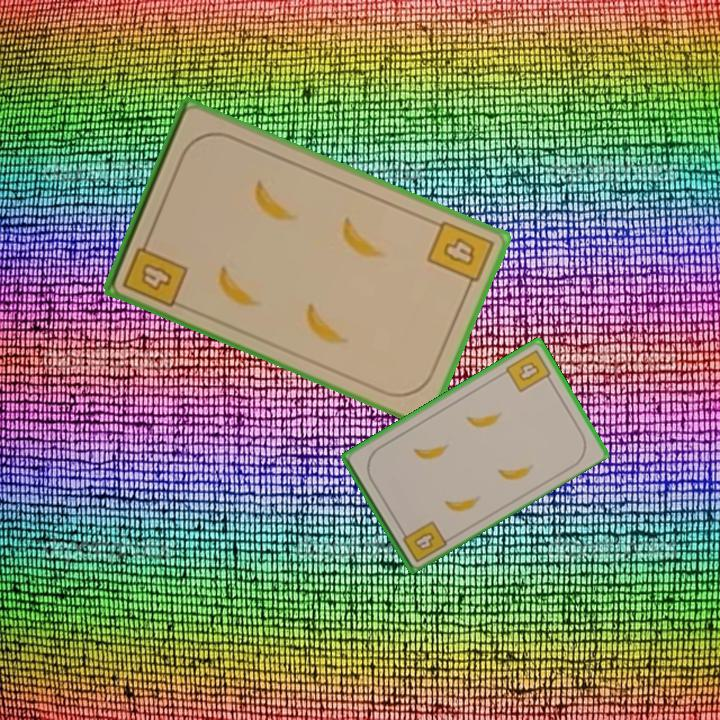4b: (423, 217, 497, 294), (119, 232, 191, 310), (502, 346, 555, 395), (396, 517, 449, 565)
